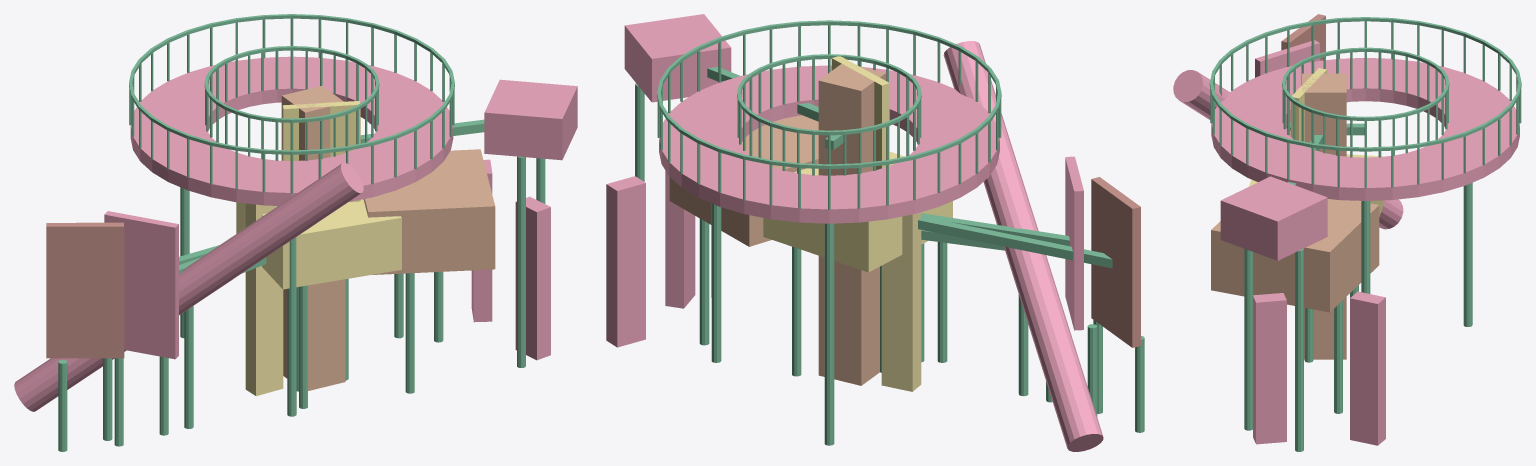
File: folie_tag_115.glb
The picture shows the model from 3 angles, left to right: view 1: azimuth 30°, elevation 25°; view 2: azimuth 150°, elevation 25°; view 3: azimuth 270°, elevation 25°; orthographic projection. The views are drawn at different scales.
Visible parts, largest first — view 1: folie_tag_115_line, folie_tag_115_00_ring, folie_tag_115_01_block, folie_tag_115_05_panel, folie_tag_115_03_tube, folie_tag_115_02_block, folie_tag_115_06_panel, folie_tag_115_core, folie_tag_115_09_block, folie_tag_115_04_fin, folie_tag_115_10_fin, folie_tag_115_08_panel (+1 smaller); view 2: folie_tag_115_line, folie_tag_115_00_ring, folie_tag_115_03_tube, folie_tag_115_core, folie_tag_115_05_panel, folie_tag_115_07_fin, folie_tag_115_09_block, folie_tag_115_04_fin, folie_tag_115_02_block, folie_tag_115_01_block, folie_tag_115_10_fin, folie_tag_115_06_panel (+1 smaller); view 3: folie_tag_115_00_ring, folie_tag_115_line, folie_tag_115_01_block, folie_tag_115_09_block, folie_tag_115_07_fin, folie_tag_115_10_fin, folie_tag_115_core, folie_tag_115_03_tube, folie_tag_115_06_panel, folie_tag_115_05_panel, folie_tag_115_08_panel.
Part boxes in pixels (box(x1,y1,x2,y2)): folie_tag_115_line: box(58, 14, 545, 451); folie_tag_115_00_ring: box(130, 56, 453, 205); folie_tag_115_01_block: box(363, 149, 495, 274); folie_tag_115_05_panel: box(46, 222, 124, 358); folie_tag_115_03_tube: box(14, 162, 363, 411); folie_tag_115_02_block: box(236, 199, 401, 289); folie_tag_115_06_panel: box(104, 211, 178, 359); folie_tag_115_core: box(281, 86, 345, 390); folie_tag_115_09_block: box(484, 79, 577, 160); folie_tag_115_04_fin: box(245, 203, 283, 396); folie_tag_115_10_fin: box(515, 196, 550, 360); folie_tag_115_08_panel: box(282, 101, 360, 201); folie_tag_115_line: box(635, 20, 1144, 445); folie_tag_115_00_ring: box(659, 65, 999, 223); folie_tag_115_03_tube: box(943, 41, 1103, 451); folie_tag_115_core: box(818, 64, 885, 385); folie_tag_115_05_panel: box(1091, 177, 1140, 347); folie_tag_115_07_fin: box(606, 176, 645, 347); folie_tag_115_09_block: box(624, 14, 731, 102); folie_tag_115_04_fin: box(881, 212, 921, 391); folie_tag_115_02_block: box(763, 151, 952, 272); folie_tag_115_01_block: box(669, 115, 818, 246); folie_tag_115_10_fin: box(665, 170, 695, 308); folie_tag_115_06_panel: box(1065, 156, 1083, 330); folie_tag_115_00_ring: box(1211, 58, 1519, 200); folie_tag_115_line: box(1209, 17, 1521, 451); folie_tag_115_01_block: box(1211, 199, 1379, 312); folie_tag_115_09_block: box(1220, 176, 1327, 260); folie_tag_115_07_fin: box(1350, 291, 1385, 445); folie_tag_115_10_fin: box(1253, 293, 1286, 444); folie_tag_115_core: box(1302, 73, 1346, 359); folie_tag_115_03_tube: box(1173, 70, 1403, 229); folie_tag_115_06_panel: box(1255, 40, 1319, 128); folie_tag_115_05_panel: box(1281, 14, 1325, 60); folie_tag_115_08_panel: box(1290, 68, 1327, 141).
Size of the model in its own units: 13.87 by 7.26 by 8.58.
